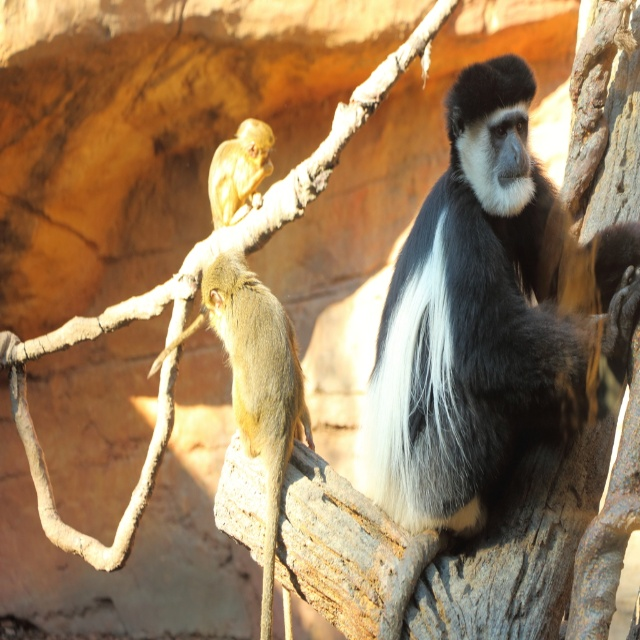Monkey: (352, 54, 640, 549), (201, 249, 310, 639), (149, 118, 277, 382)
